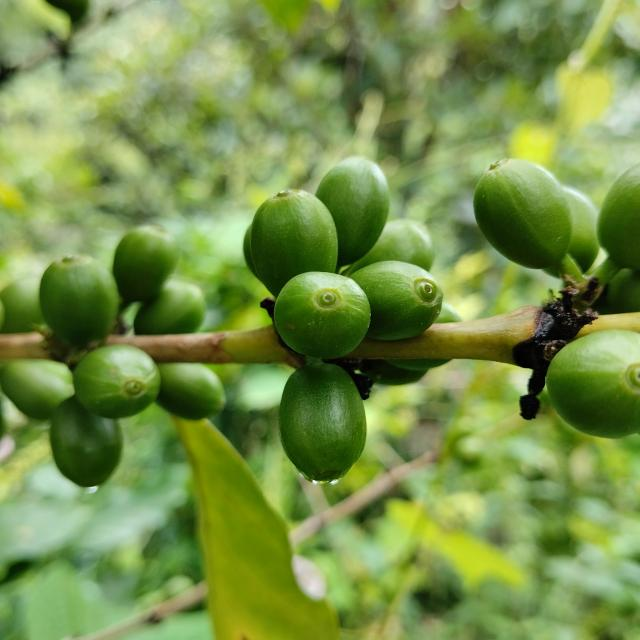green: (474, 158, 573, 269), (279, 362, 367, 484), (547, 330, 640, 439), (250, 190, 338, 297), (274, 272, 371, 359), (316, 156, 390, 267), (350, 260, 443, 341), (39, 254, 119, 348), (72, 345, 160, 419), (112, 224, 179, 302), (348, 219, 435, 274), (599, 163, 640, 270), (134, 278, 205, 335), (156, 363, 225, 421), (562, 185, 601, 271), (243, 224, 259, 279)
